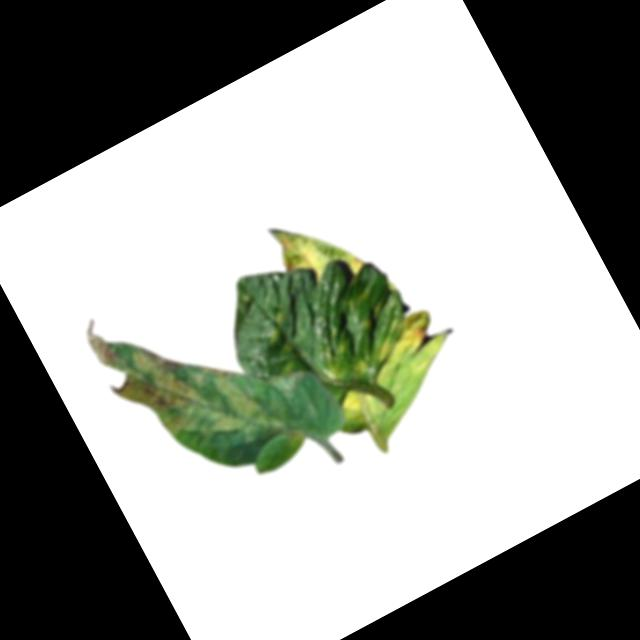Leaf_Mold: (79, 267, 288, 495), (263, 194, 368, 304), (368, 301, 464, 388), (331, 377, 390, 438)
